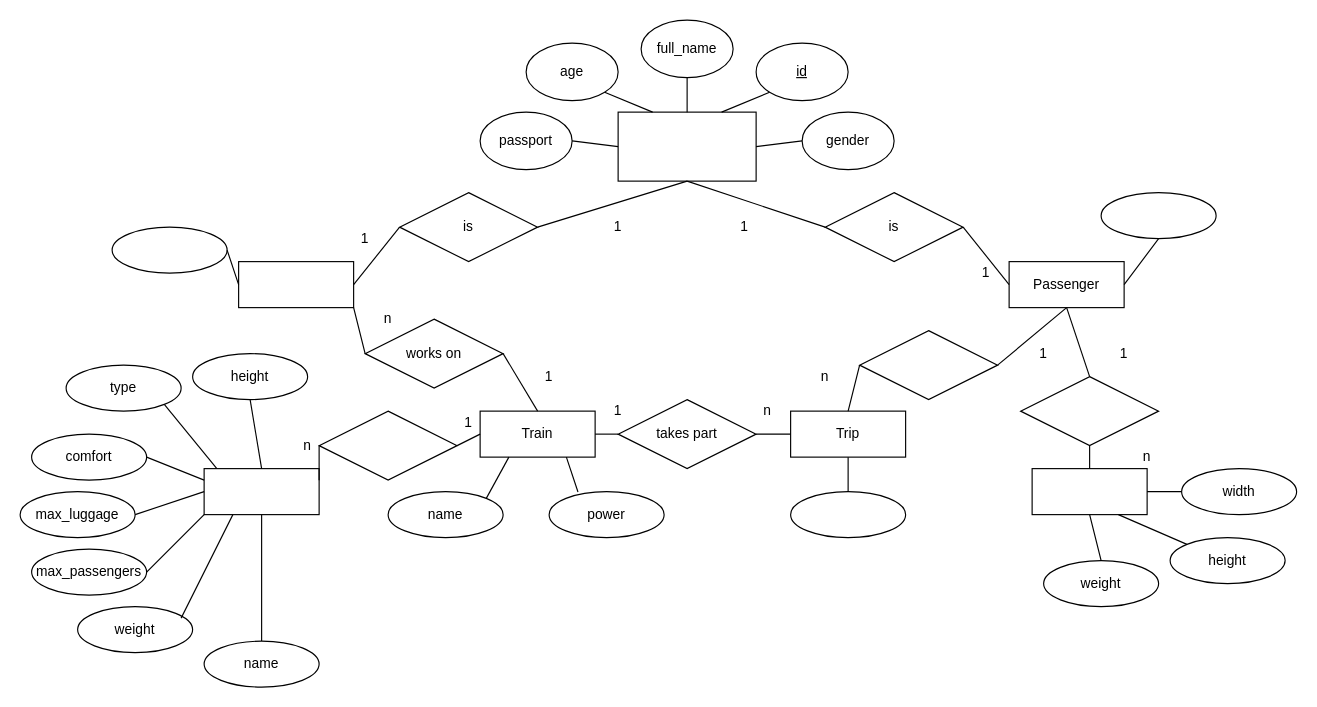
This 1317x707 diagram has some shape labels left out. Each missing label, with the centre of its shape:
"brings" goes at point 1089,410.
"Carriage" goes at point 261,491.
"consists" goes at point 387,445.
"Crew" goes at point 295,284.
"date" goes at point 847,514.
"Human" goes at point 686,146.
"Luggage" goes at point 1089,491.
"min_comfort" goes at point 1158,215.
"position" goes at point 169,249.
"takes" goes at point 928,364.
